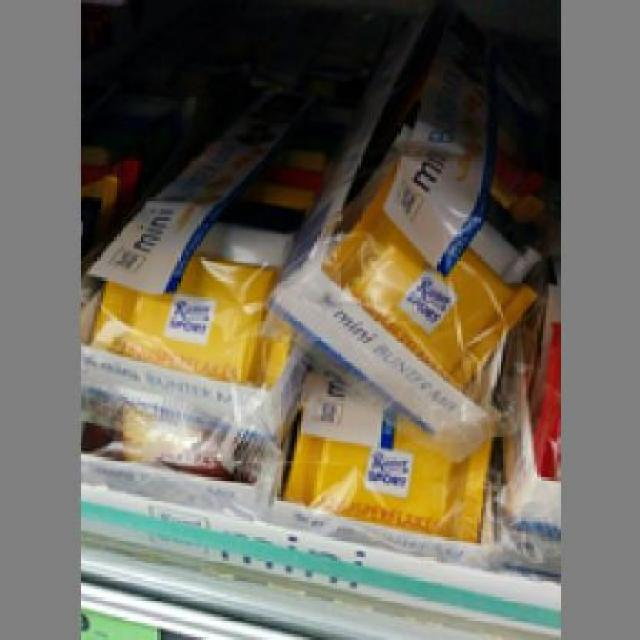Chocolate bar: (77, 120, 317, 414), (320, 63, 531, 391)
